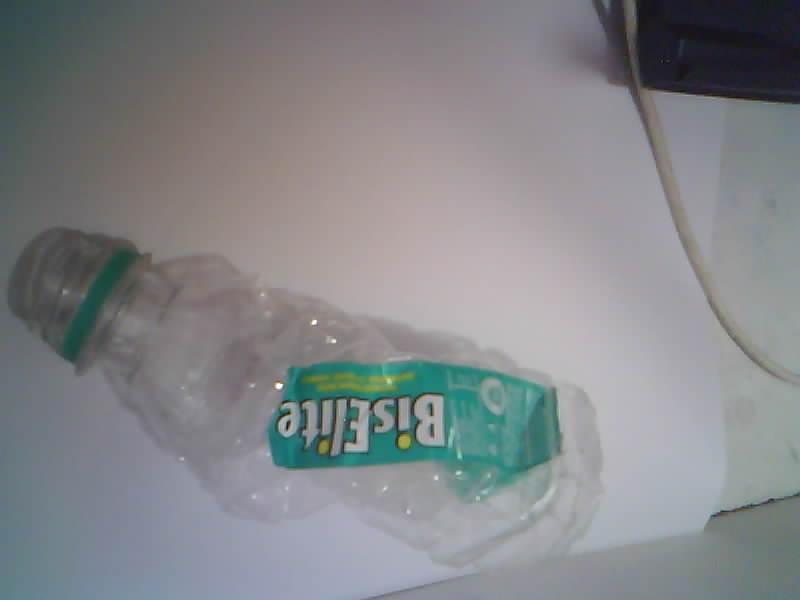non-biodegradable: (9, 229, 601, 565)
